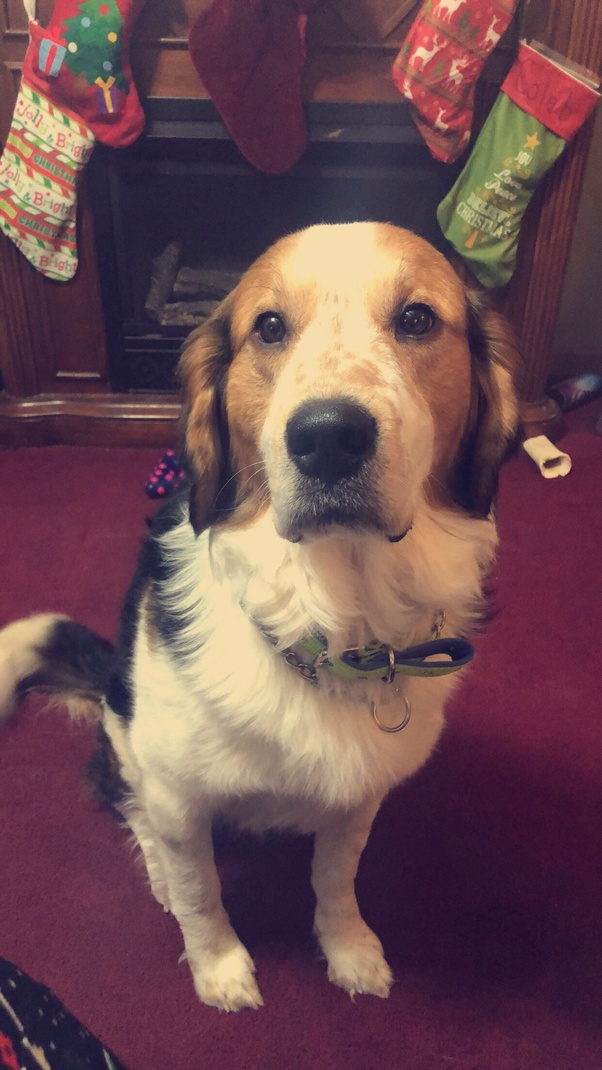dog: (1, 215, 532, 1007)
